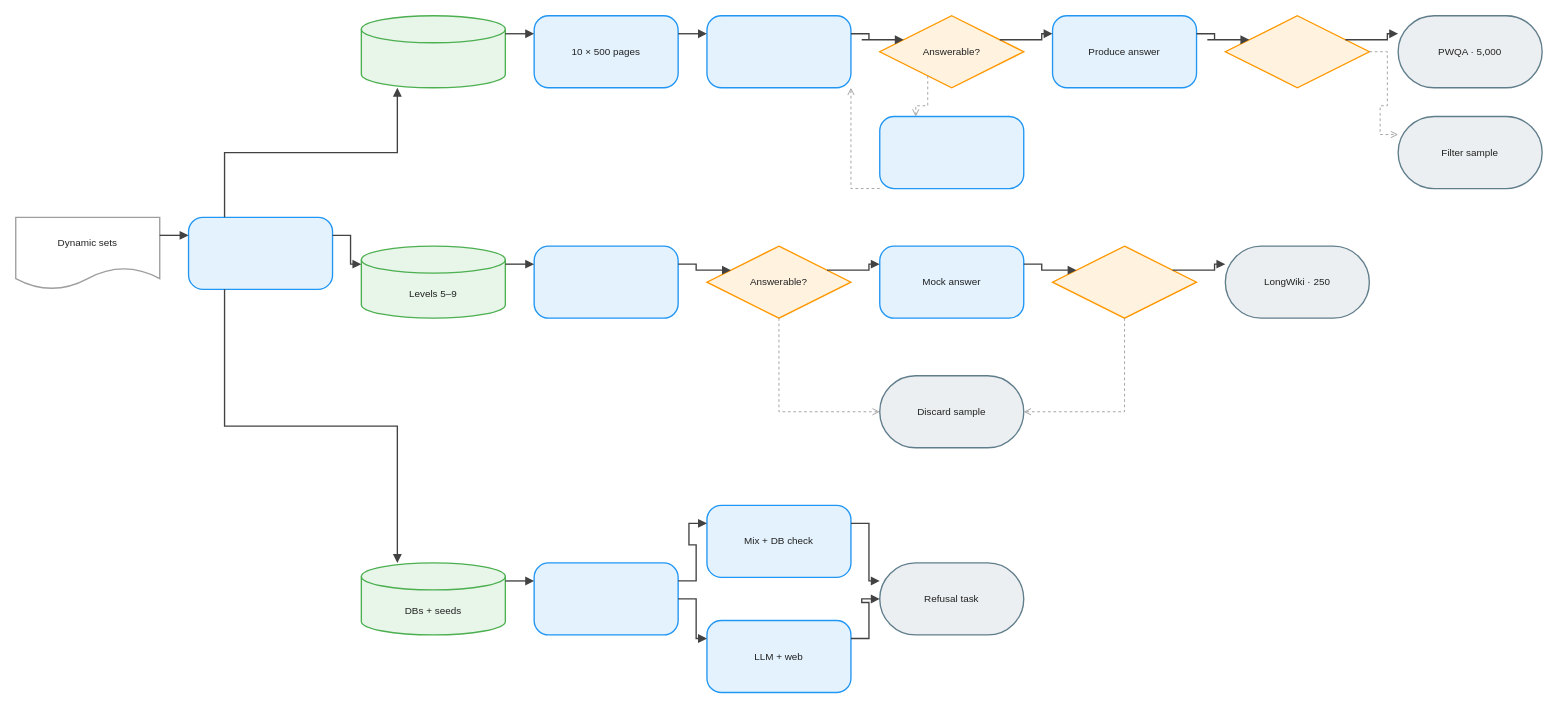
The diagram is 1559 pixels wide and 709 high, and some of its shapes have lost their labels. The box of each missing label's shape, as (x1, y1, x2, y2) in pixels:
2 name methods: (533, 562, 678, 635)
3 new tasks: (187, 216, 333, 290)
4+ sentences?: (1051, 245, 1197, 318)
At most 10 words?: (1224, 15, 1370, 88)
Generate question: (706, 15, 851, 88)
Prompt gen.: (533, 245, 678, 318)
Regenerate question: (879, 115, 1024, 189)
Wiki sources: (360, 15, 506, 88)
